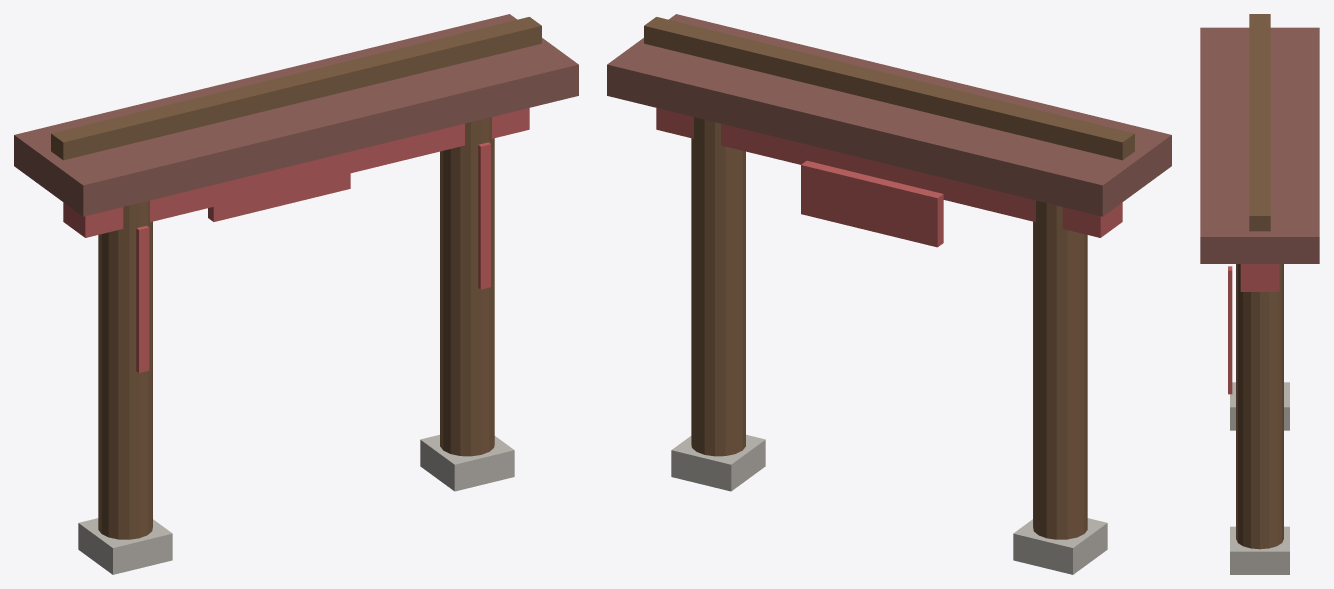
Rendered from gate.glb.
3 views of the same model, side by side, from view 1: azimuth 30°, elevation 25°; view 2: azimuth 150°, elevation 25°; view 3: azimuth 270°, elevation 25° (orthographic). The views are drawn at different scales.
Visible parts, largest first — view 1: gate; view 2: gate; view 3: gate.
Boxes of the visible parts, left/top/right/bottom form: gate: left=14, top=14, right=578, bottom=574; gate: left=607, top=14, right=1171, bottom=574; gate: left=1200, top=14, right=1319, bottom=574.
Bounding box in the file's own units: 5.8 × 4.85 × 1.4.
